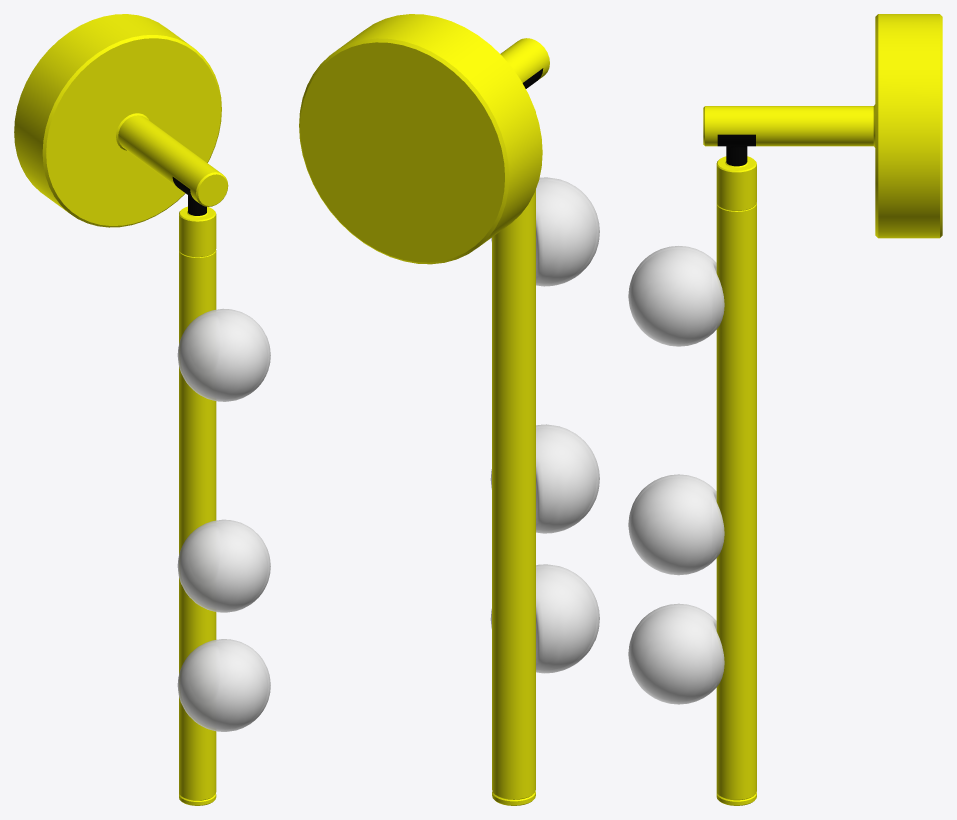
File: designconnected-drop-dss-03-01-wall-lamp-9769.optimized.glb
3 renders of one model, left to right at view 1: azimuth 30°, elevation 25°; view 2: azimuth 150°, elevation 25°; view 3: azimuth 270°, elevation 25°, orthographic. The views are drawn at different scales.
Visible parts, largest first — view 1: The_Future_Perfect_Drop_DSS_03_01_mat1; view 2: The_Future_Perfect_Drop_DSS_03_01_mat1; view 3: The_Future_Perfect_Drop_DSS_03_01_mat1.
Boxes of the visible parts, bbox=[...] form: The_Future_Perfect_Drop_DSS_03_01_mat1: bbox=[14, 14, 270, 805]; The_Future_Perfect_Drop_DSS_03_01_mat1: bbox=[299, 14, 599, 805]; The_Future_Perfect_Drop_DSS_03_01_mat1: bbox=[628, 14, 942, 805].
Bounding box in the file's own units: 0.127 × 0.4826 × 0.1778.
